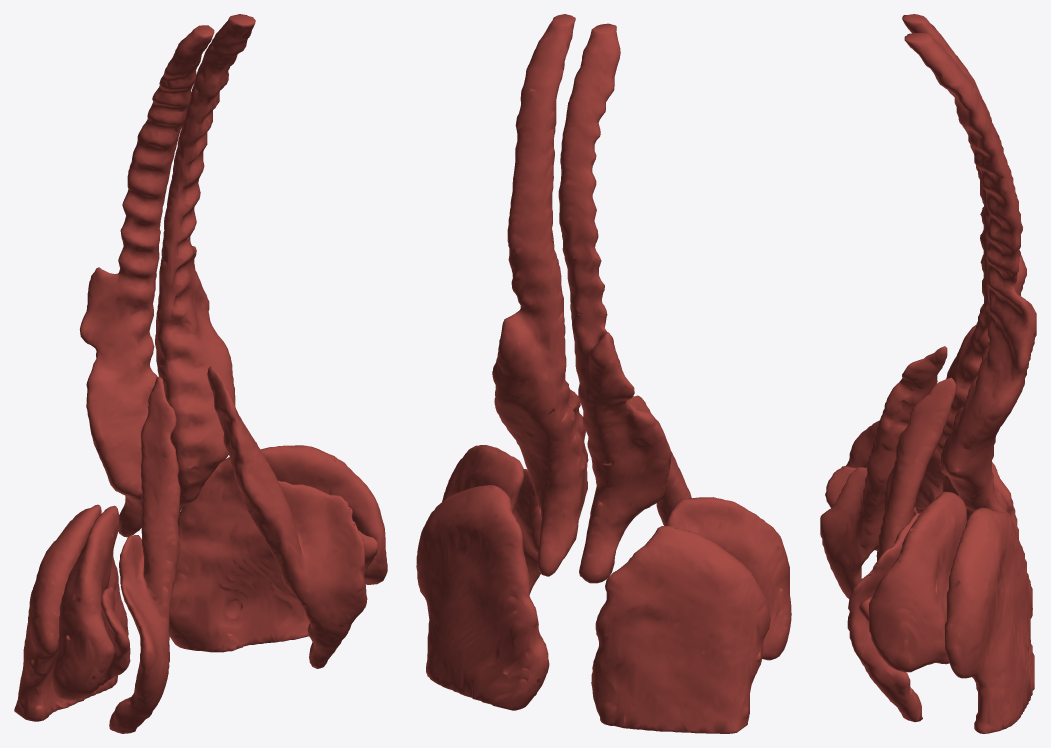
Rendered from tsd_s0196_older_adult_female.muscular.LOD2.glb.
3 views of the same model, side by side, from view 1: azimuth 30°, elevation 25°; view 2: azimuth 150°, elevation 25°; view 3: azimuth 270°, elevation 25° (orthographic). The views are drawn at different scales.
Visible parts, largest first — view 1: TSD_S0196.OLDER_ADULT.FEMALE.MUSCULAR.ERECTOR_SPINAE_AUTOCHT (×2), TSD_S0196.OLDER_ADULT.FEMALE.MUSCULAR.GLUTEUS_MAXIMUS.L, TSD_S0196.OLDER_ADULT.FEMALE.MUSCULAR.ILIOPSOAS.L, TSD_S0196.OLDER_ADULT.FEMALE.MUSCULAR.ILIOPSOAS.R, TSD_S0196.OLDER_ADULT.FEMALE.MUSCULAR.GLUTEUS_MAXIMUS.R, TSD_S0196.OLDER_ADULT.FEMALE.MUSCULAR.GLUTEUS_MEDIUS.R, TSD_S0196.OLDER_ADULT.FEMALE.MUSCULAR.GLUTEUS_MEDIUS.L, TSD_S0196.OLDER_ADULT.FEMALE.MUSCULAR.GLUTEUS_MINIMUS.R; view 2: TSD_S0196.OLDER_ADULT.FEMALE.MUSCULAR.ERECTOR_SPINAE_AUTOCHT (×2), TSD_S0196.OLDER_ADULT.FEMALE.MUSCULAR.GLUTEUS_MAXIMUS.R, TSD_S0196.OLDER_ADULT.FEMALE.MUSCULAR.GLUTEUS_MAXIMUS.L, TSD_S0196.OLDER_ADULT.FEMALE.MUSCULAR.GLUTEUS_MEDIUS.R, TSD_S0196.OLDER_ADULT.FEMALE.MUSCULAR.GLUTEUS_MEDIUS.L, TSD_S0196.OLDER_ADULT.FEMALE.MUSCULAR.ILIOPSOAS.L, TSD_S0196.OLDER_ADULT.FEMALE.MUSCULAR.ILIOPSOAS.R; view 3: TSD_S0196.OLDER_ADULT.FEMALE.MUSCULAR.ERECTOR_SPINAE_AUTOCHT (×2), TSD_S0196.OLDER_ADULT.FEMALE.MUSCULAR.GLUTEUS_MAXIMUS.L, TSD_S0196.OLDER_ADULT.FEMALE.MUSCULAR.GLUTEUS_MEDIUS.L, TSD_S0196.OLDER_ADULT.FEMALE.MUSCULAR.ILIOPSOAS.L, TSD_S0196.OLDER_ADULT.FEMALE.MUSCULAR.ILIOPSOAS.R, TSD_S0196.OLDER_ADULT.FEMALE.MUSCULAR.GLUTEUS_MEDIUS.R, TSD_S0196.OLDER_ADULT.FEMALE.MUSCULAR.GLUTEUS_MAXIMUS.R, TSD_S0196.OLDER_ADULT.FEMALE.MUSCULAR.GLUTEUS_MINIMUS.R.
Part boxes in pixels (left/top/right/bottom): TSD_S0196.OLDER_ADULT.FEMALE.MUSCULAR.ERECTOR_SPINAE_AUTOCHT (×2): left=79, top=14, right=255, bottom=537; TSD_S0196.OLDER_ADULT.FEMALE.MUSCULAR.GLUTEUS_MAXIMUS.L: left=169, top=457, right=309, bottom=652; TSD_S0196.OLDER_ADULT.FEMALE.MUSCULAR.ILIOPSOAS.L: left=207, top=366, right=367, bottom=668; TSD_S0196.OLDER_ADULT.FEMALE.MUSCULAR.ILIOPSOAS.R: left=109, top=376, right=180, bottom=733; TSD_S0196.OLDER_ADULT.FEMALE.MUSCULAR.GLUTEUS_MAXIMUS.R: left=14, top=504, right=128, bottom=721; TSD_S0196.OLDER_ADULT.FEMALE.MUSCULAR.GLUTEUS_MEDIUS.R: left=52, top=505, right=119, bottom=700; TSD_S0196.OLDER_ADULT.FEMALE.MUSCULAR.GLUTEUS_MEDIUS.L: left=260, top=445, right=387, bottom=584; TSD_S0196.OLDER_ADULT.FEMALE.MUSCULAR.GLUTEUS_MINIMUS.R: left=100, top=586, right=130, bottom=685; TSD_S0196.OLDER_ADULT.FEMALE.MUSCULAR.ERECTOR_SPINAE_AUTOCHT (×2): left=492, top=14, right=671, bottom=583; TSD_S0196.OLDER_ADULT.FEMALE.MUSCULAR.GLUTEUS_MAXIMUS.R: left=591, top=526, right=770, bottom=733; TSD_S0196.OLDER_ADULT.FEMALE.MUSCULAR.GLUTEUS_MAXIMUS.L: left=416, top=485, right=549, bottom=710; TSD_S0196.OLDER_ADULT.FEMALE.MUSCULAR.GLUTEUS_MEDIUS.R: left=665, top=497, right=791, bottom=660; TSD_S0196.OLDER_ADULT.FEMALE.MUSCULAR.GLUTEUS_MEDIUS.L: left=442, top=445, right=524, bottom=513; TSD_S0196.OLDER_ADULT.FEMALE.MUSCULAR.ILIOPSOAS.L: left=513, top=383, right=588, bottom=594; TSD_S0196.OLDER_ADULT.FEMALE.MUSCULAR.ILIOPSOAS.R: left=629, top=395, right=691, bottom=525; TSD_S0196.OLDER_ADULT.FEMALE.MUSCULAR.ERECTOR_SPINAE_AUTOCHT (×2): left=902, top=14, right=1036, bottom=528; TSD_S0196.OLDER_ADULT.FEMALE.MUSCULAR.GLUTEUS_MAXIMUS.L: left=945, top=507, right=1034, bottom=733; TSD_S0196.OLDER_ADULT.FEMALE.MUSCULAR.GLUTEUS_MEDIUS.L: left=869, top=491, right=966, bottom=672; TSD_S0196.OLDER_ADULT.FEMALE.MUSCULAR.ILIOPSOAS.L: left=847, top=377, right=956, bottom=722; TSD_S0196.OLDER_ADULT.FEMALE.MUSCULAR.ILIOPSOAS.R: left=820, top=346, right=947, bottom=598; TSD_S0196.OLDER_ADULT.FEMALE.MUSCULAR.GLUTEUS_MEDIUS.R: left=846, top=420, right=945, bottom=550; TSD_S0196.OLDER_ADULT.FEMALE.MUSCULAR.GLUTEUS_MAXIMUS.R: left=915, top=462, right=1018, bottom=538; TSD_S0196.OLDER_ADULT.FEMALE.MUSCULAR.GLUTEUS_MINIMUS.R: left=825, top=466, right=917, bottom=550.
Bounding box in the file's own units: 0.2943 × 0.5508 × 0.1668.
